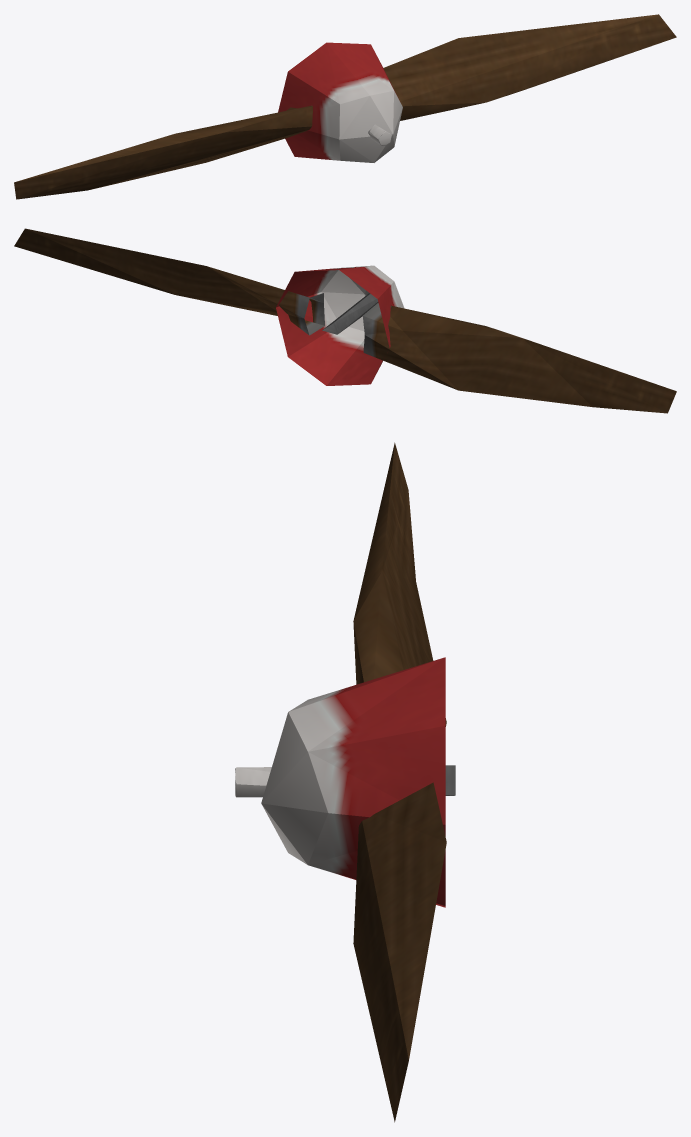
Rendered from propeller.obj.
The picture shows the model from 3 angles, top to bottom: view 1: azimuth 30°, elevation 25°; view 2: azimuth 150°, elevation 25°; view 3: azimuth 270°, elevation 25°; orthographic projection. The views are drawn at different scales.
Parts seen in each view (by area): view 1: uploads_files_2532780_Gamecock.001; view 2: uploads_files_2532780_Gamecock.001; view 3: uploads_files_2532780_Gamecock.001.
Part boxes in pixels (x1,y1,x2,y2): uploads_files_2532780_Gamecock.001: (14,14,676,199); uploads_files_2532780_Gamecock.001: (14,228,676,413); uploads_files_2532780_Gamecock.001: (235,442,455,1122).
Bounding box in the file's own units: 2.85 × 0.489 × 0.41.
